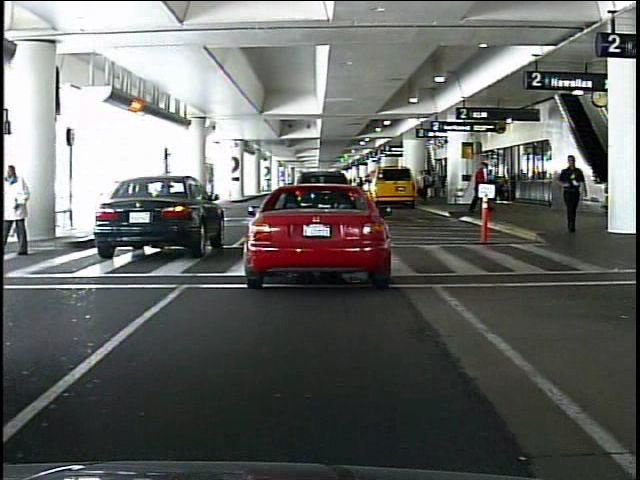person: (7, 165, 37, 257), (558, 152, 585, 235), (470, 162, 489, 216), (417, 166, 430, 202)
